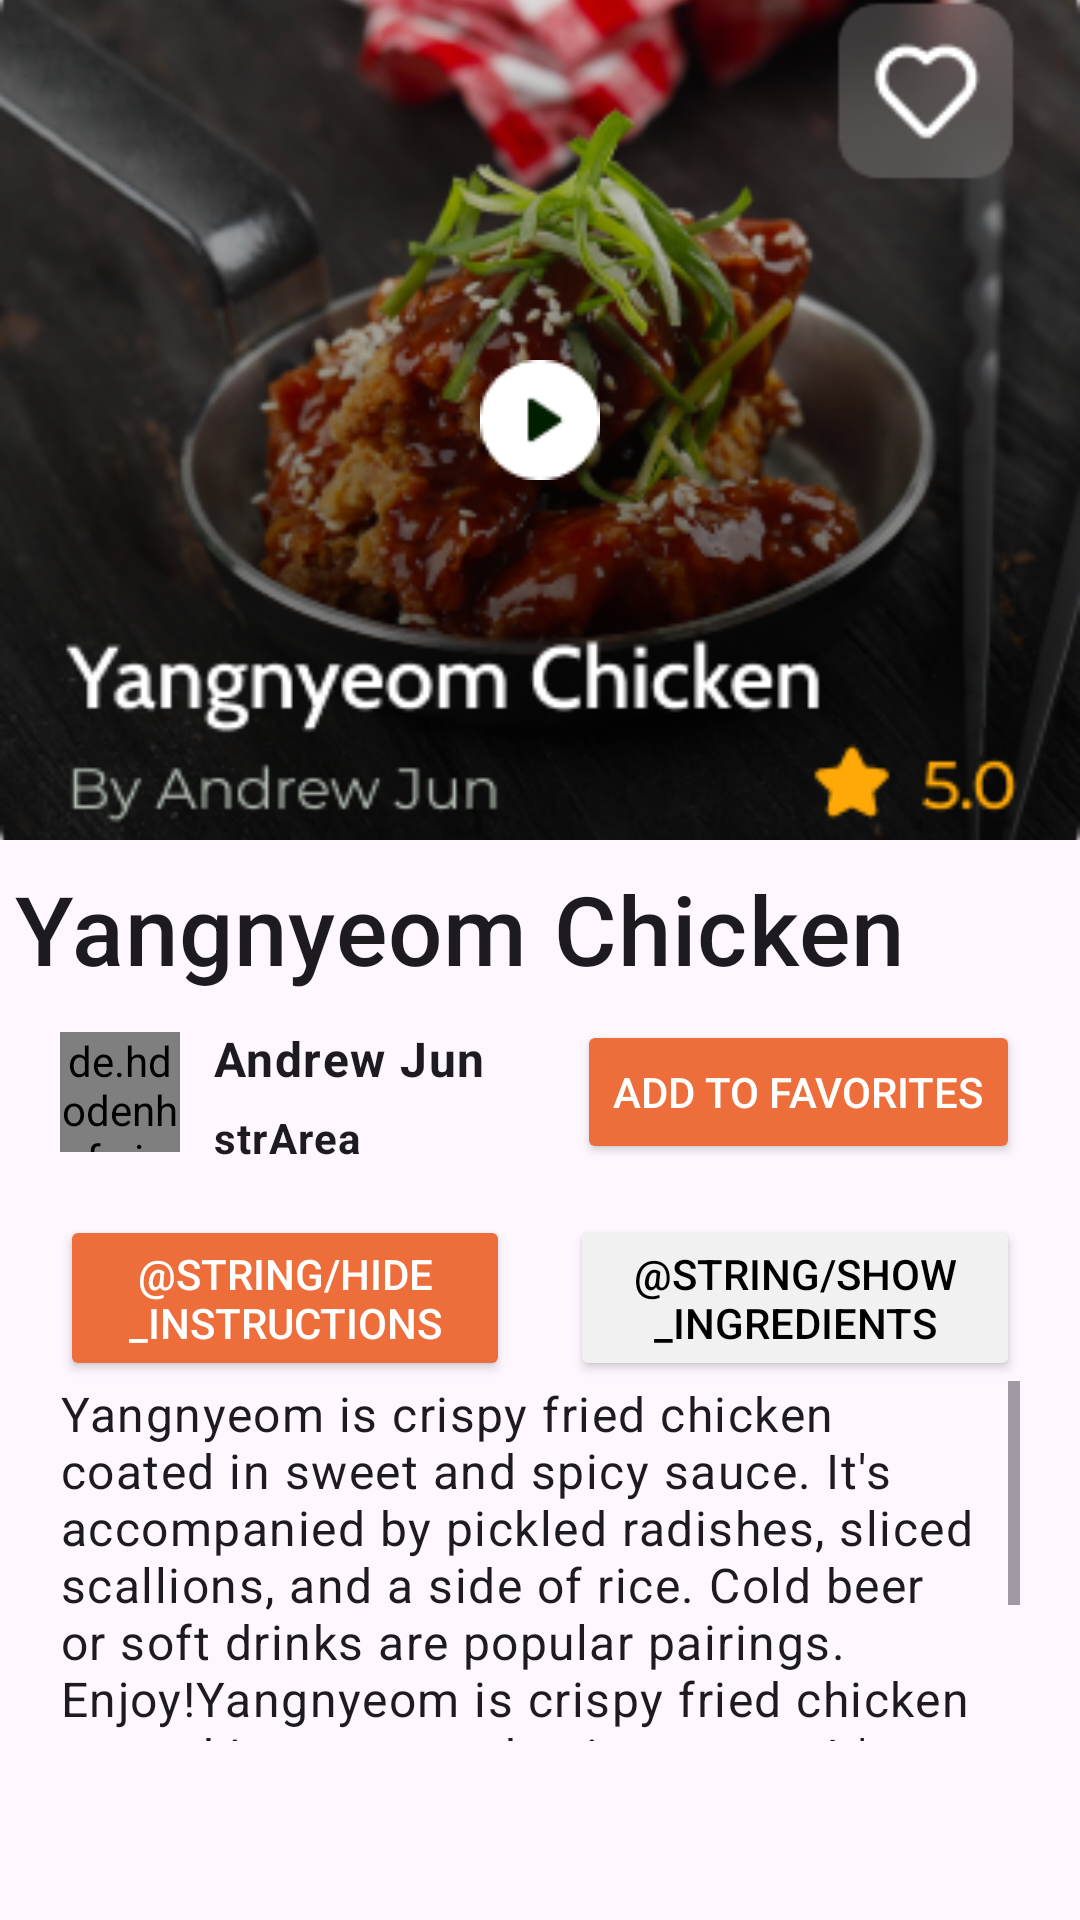

Icons on this 1080w x 1920h Android screen, each with the point to tap as [x,y]:
play: [540,420]
